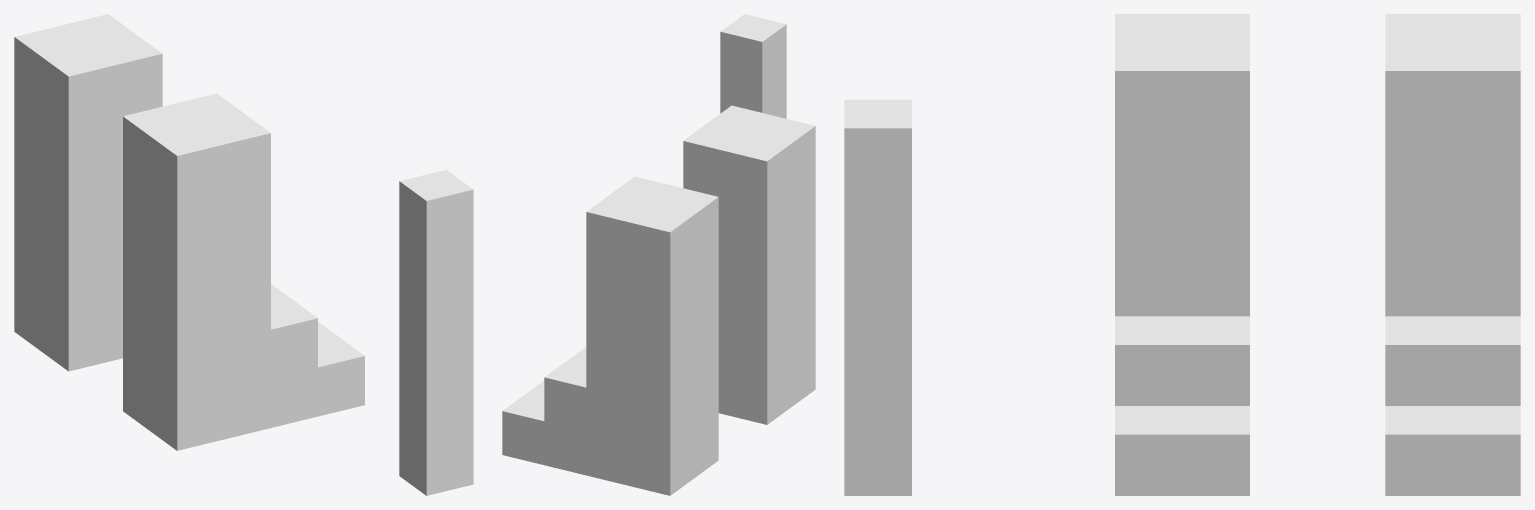
The model's file is feet_base.gltf.
The picture shows the model from 3 angles, left to right: view 1: azimuth 30°, elevation 25°; view 2: azimuth 150°, elevation 25°; view 3: azimuth 270°, elevation 25°; orthographic projection. The views are drawn at different scales.
Visible parts, largest first — view 1: Layer.1; view 2: Layer.1; view 3: Layer.1.
Part boxes in pixels (<box>): Layer.1: <box>14,14,473,495</box>; Layer.1: <box>502,14,815,495</box>; Layer.1: <box>844,14,1520,495</box>.
Bounding box in the file's own units: 4 × 6 × 10.
1 material, 1 textured.
